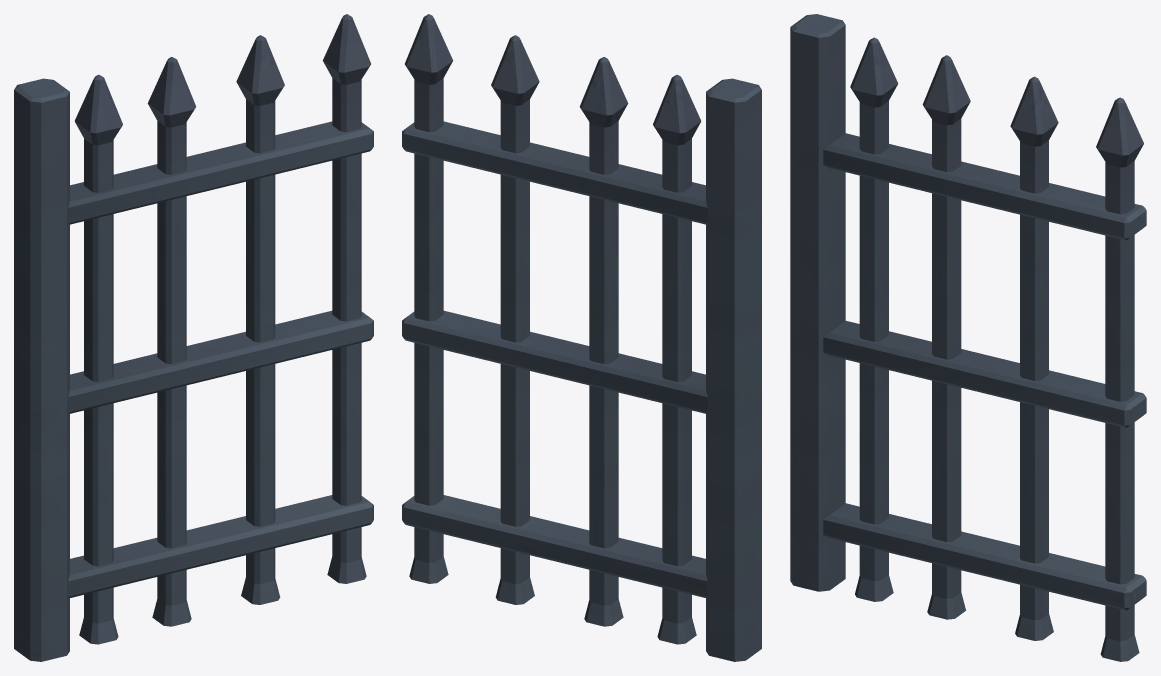
File: gate_iron.glb
3 views of the same model, side by side, from view 1: azimuth 30°, elevation 25°; view 2: azimuth 150°, elevation 25°; view 3: azimuth 330°, elevation 25° (orthographic).
Visible parts, largest first — view 1: gate_iron; view 2: gate_iron; view 3: gate_iron.
Boxes of the visible parts, x1,y1,x2,y2 form: gate_iron: (14, 14, 373, 661); gate_iron: (402, 14, 761, 661); gate_iron: (790, 14, 1146, 661).
Size of the model in its own units: 1.02 by 1.6 by 0.1252.
1 material, 1 textured.
